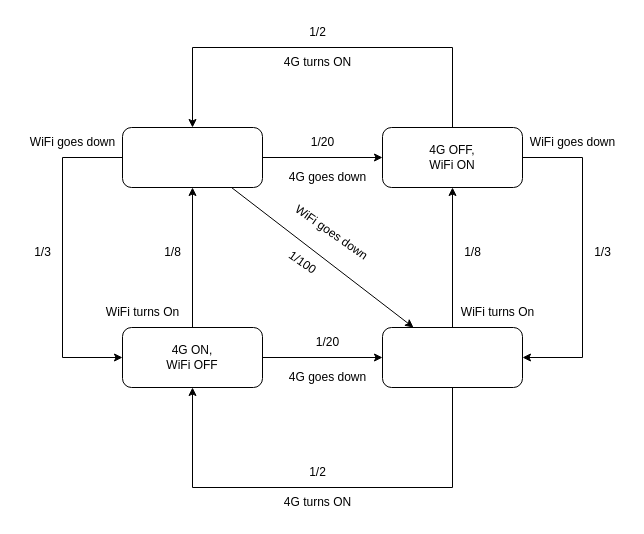
Some shapes in this 644 by 534 pixel diagram are drawn without their labels. Each missing label, with the box of its shape:
4G OFF, WiFi OFF: (382, 326, 522, 388)
4G ON, WiFi ON: (122, 126, 262, 188)
